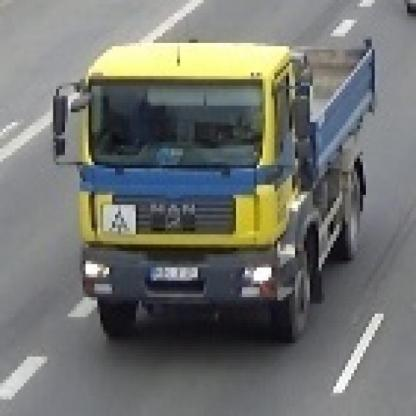truck: (57, 31, 382, 338)
